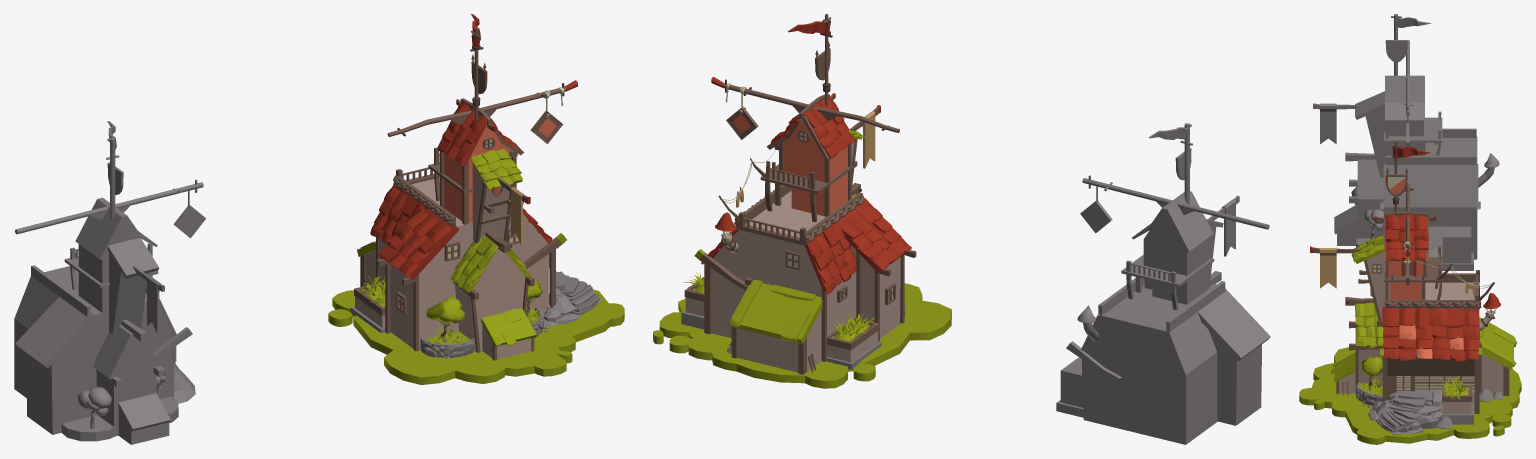
Rendered from house.fbx.
3 views of the same model, side by side, from view 1: azimuth 30°, elevation 25°; view 2: azimuth 150°, elevation 25°; view 3: azimuth 270°, elevation 25° (orthographic). The views are drawn at different scales.
Visible parts, largest first — view 1: curve9, house_draft; view 2: curve9, house_draft; view 3: curve9, house_draft.
Boxes of the visible parts, box(x1,y1,x2,y2) form: curve9: box(328, 14, 624, 384); house_draft: box(14, 121, 205, 444); curve9: box(653, 14, 951, 388); house_draft: box(1056, 123, 1270, 444); curve9: box(1299, 141, 1521, 444); house_draft: box(1313, 14, 1499, 270).
Bounding box in the file's own units: 54.61 × 22.06 × 27.45.
